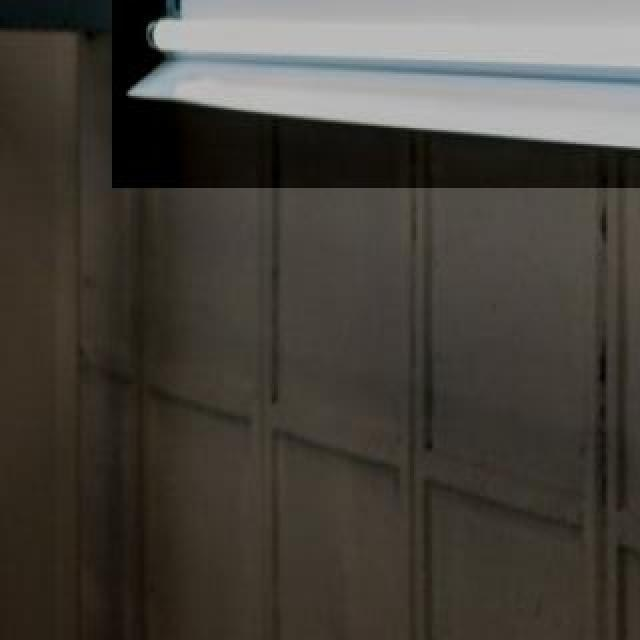fluorescent tube: (130, 16, 640, 86), (128, 0, 640, 2)
